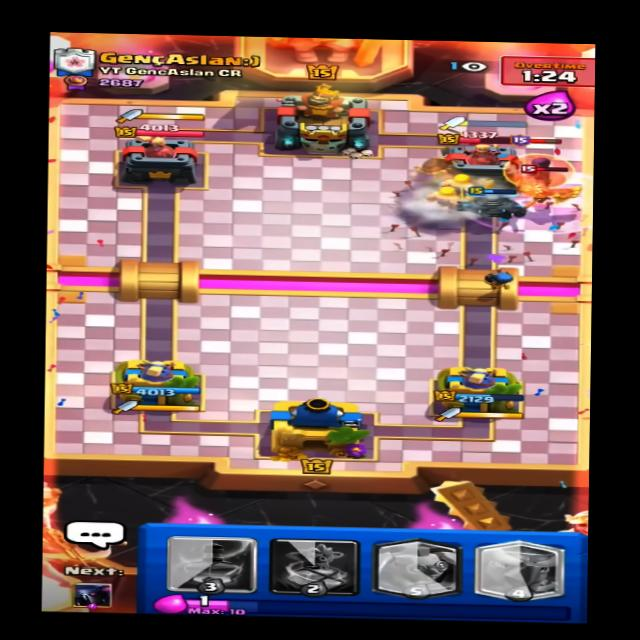Arrows: (366, 174, 598, 269)
Evowizard: (498, 144, 579, 191)
Pheonix: (489, 164, 584, 215)
